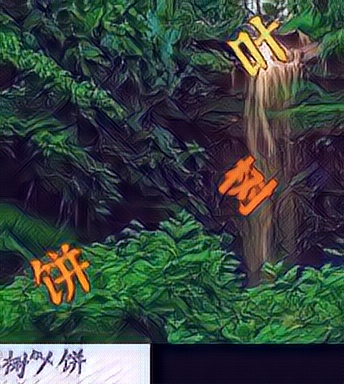B1FD: (28, 241, 90, 305)
CAF7: (215, 156, 277, 220)
D2B6: (227, 13, 289, 77)
